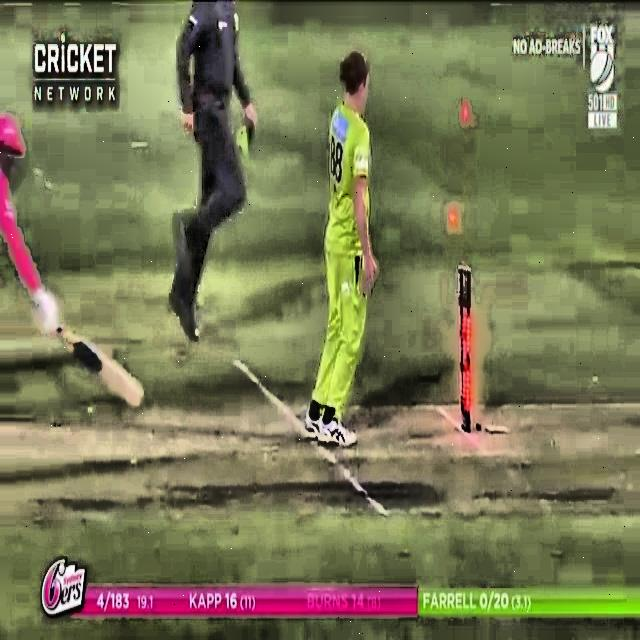Bat: (20, 285, 149, 414)
Dis_Wicket: (437, 190, 480, 446)
Pitch_Line: (231, 357, 315, 442), (312, 434, 386, 522)
